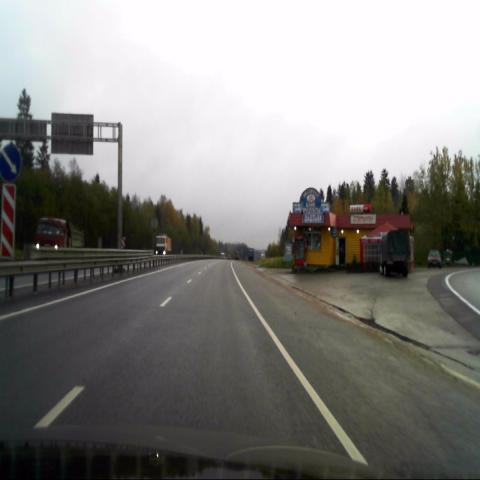4_2_1: (0, 144, 21, 182)
